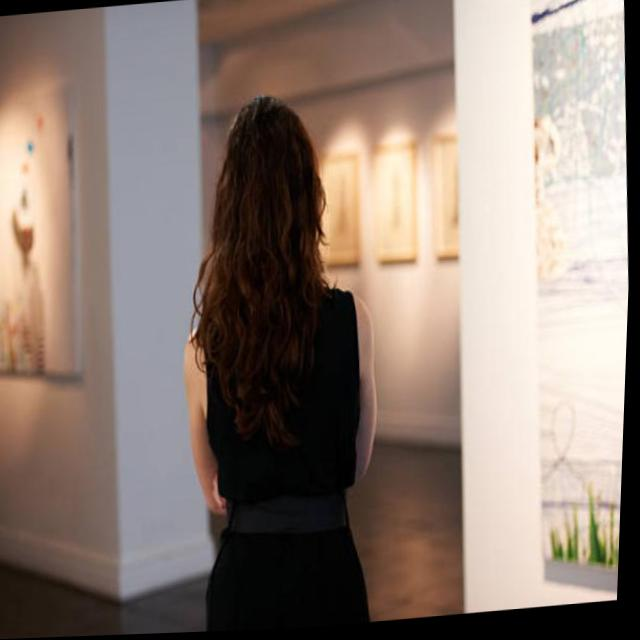no helmet: (193, 83, 354, 319)
